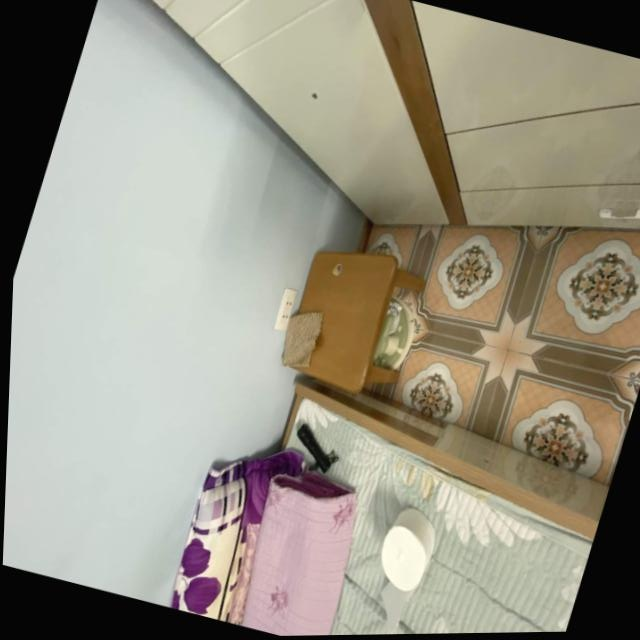outlet: (272, 288, 299, 333)
